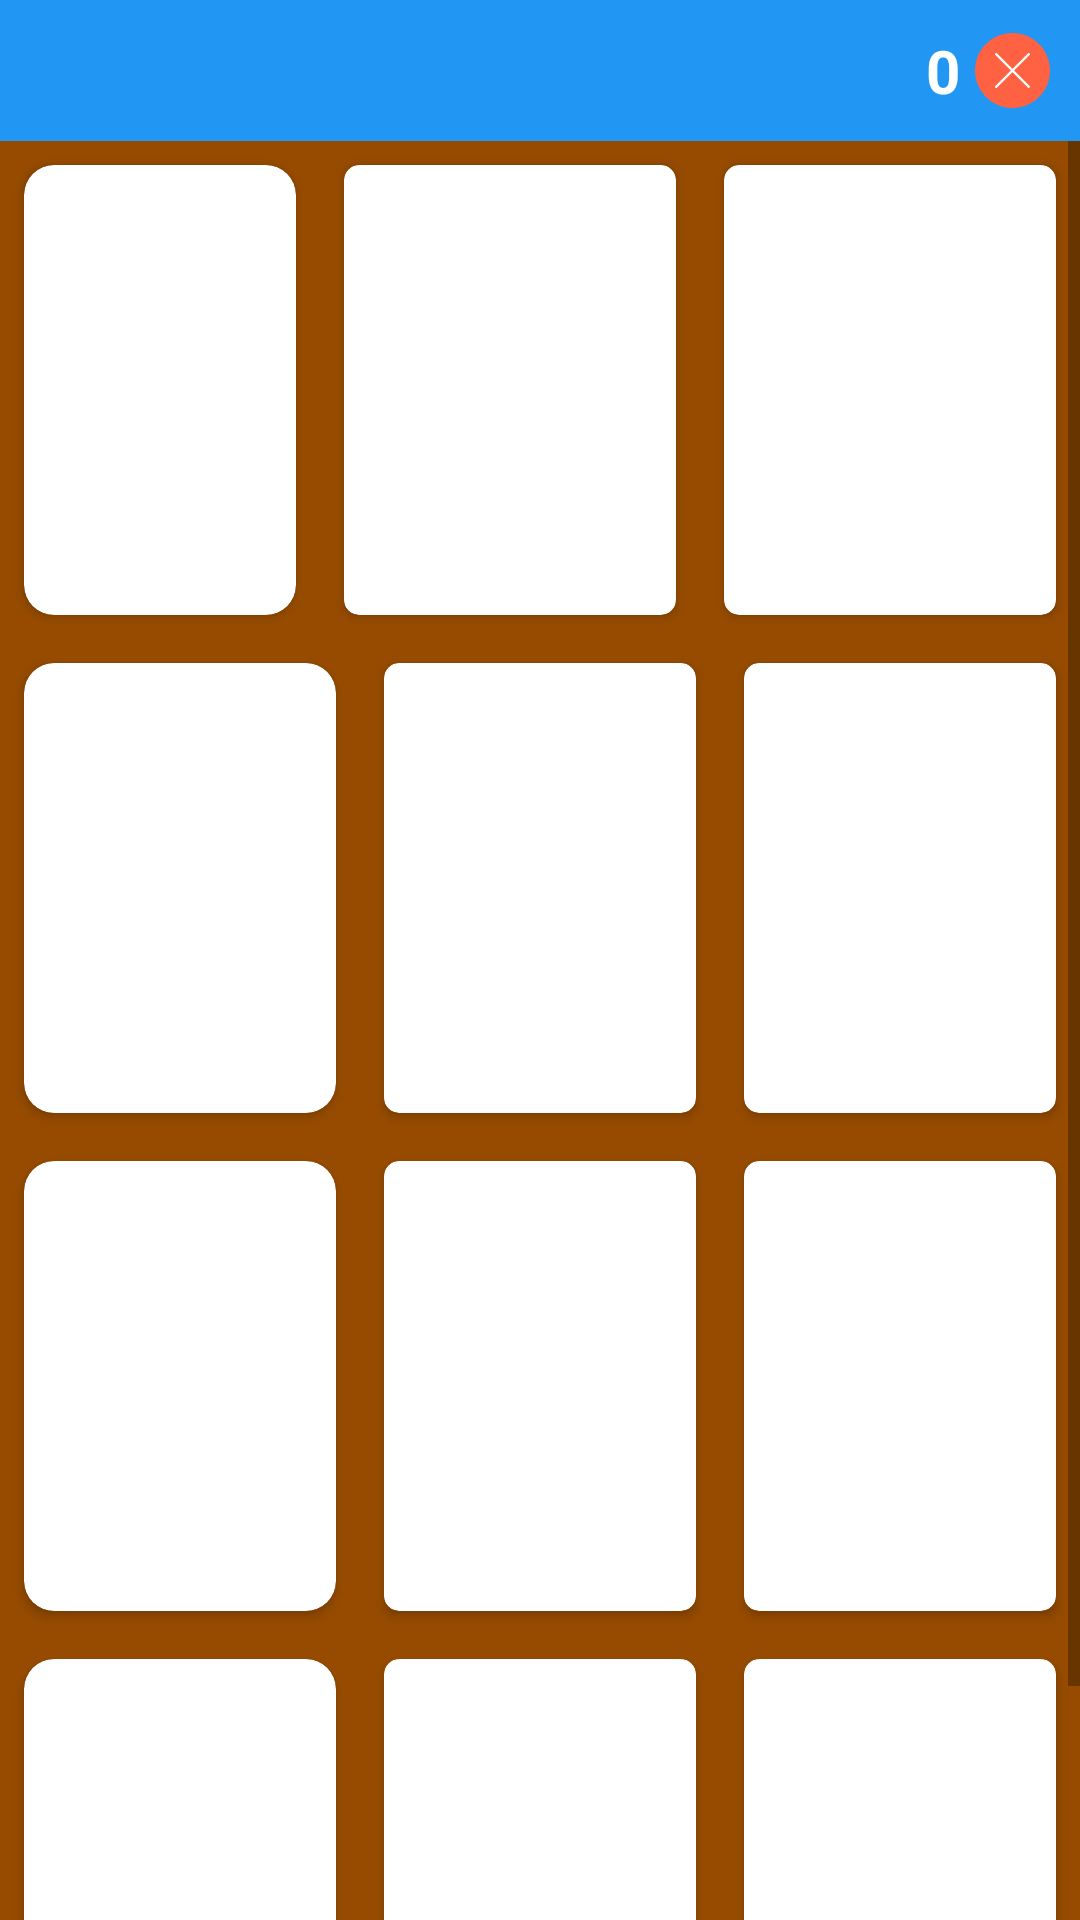

Screen size 1080 × 1920. Icon name, then its center in pixels as (x,y):
wrong: (1012,70)
